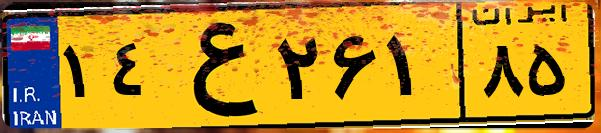1: (385, 28, 445, 110), (57, 26, 110, 100)
2: (270, 28, 330, 110)
4: (110, 28, 158, 98)
5: (525, 38, 570, 115)
6: (330, 28, 385, 110)
8: (475, 38, 525, 113)
ع: (158, 12, 270, 120)
